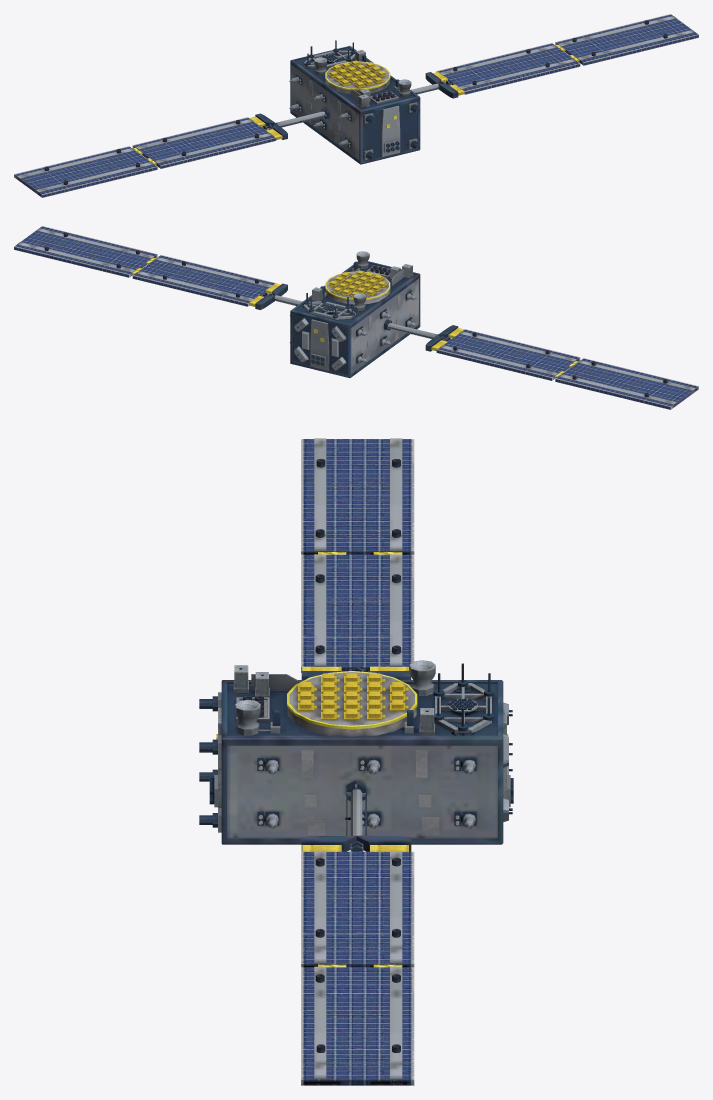
File: WeiXing2.gltf
3 views of the same model, one above another, from view 1: azimuth 30°, elevation 25°; view 2: azimuth 150°, elevation 25°; view 3: azimuth 270°, elevation 25° (orthographic). The views are drawn at different scales.
Visible parts, largest first — view 1: WeiXing2; view 2: WeiXing2; view 3: WeiXing2.
Boxes of the visible parts, x1,y1,x2,y2 form: WeiXing2: (14,14,698,197); WeiXing2: (14,226,698,409); WeiXing2: (199,438,513,1085).
Bounding box in the file's own units: 3 × 0.3386 × 0.6214.
1 material, 1 textured.
